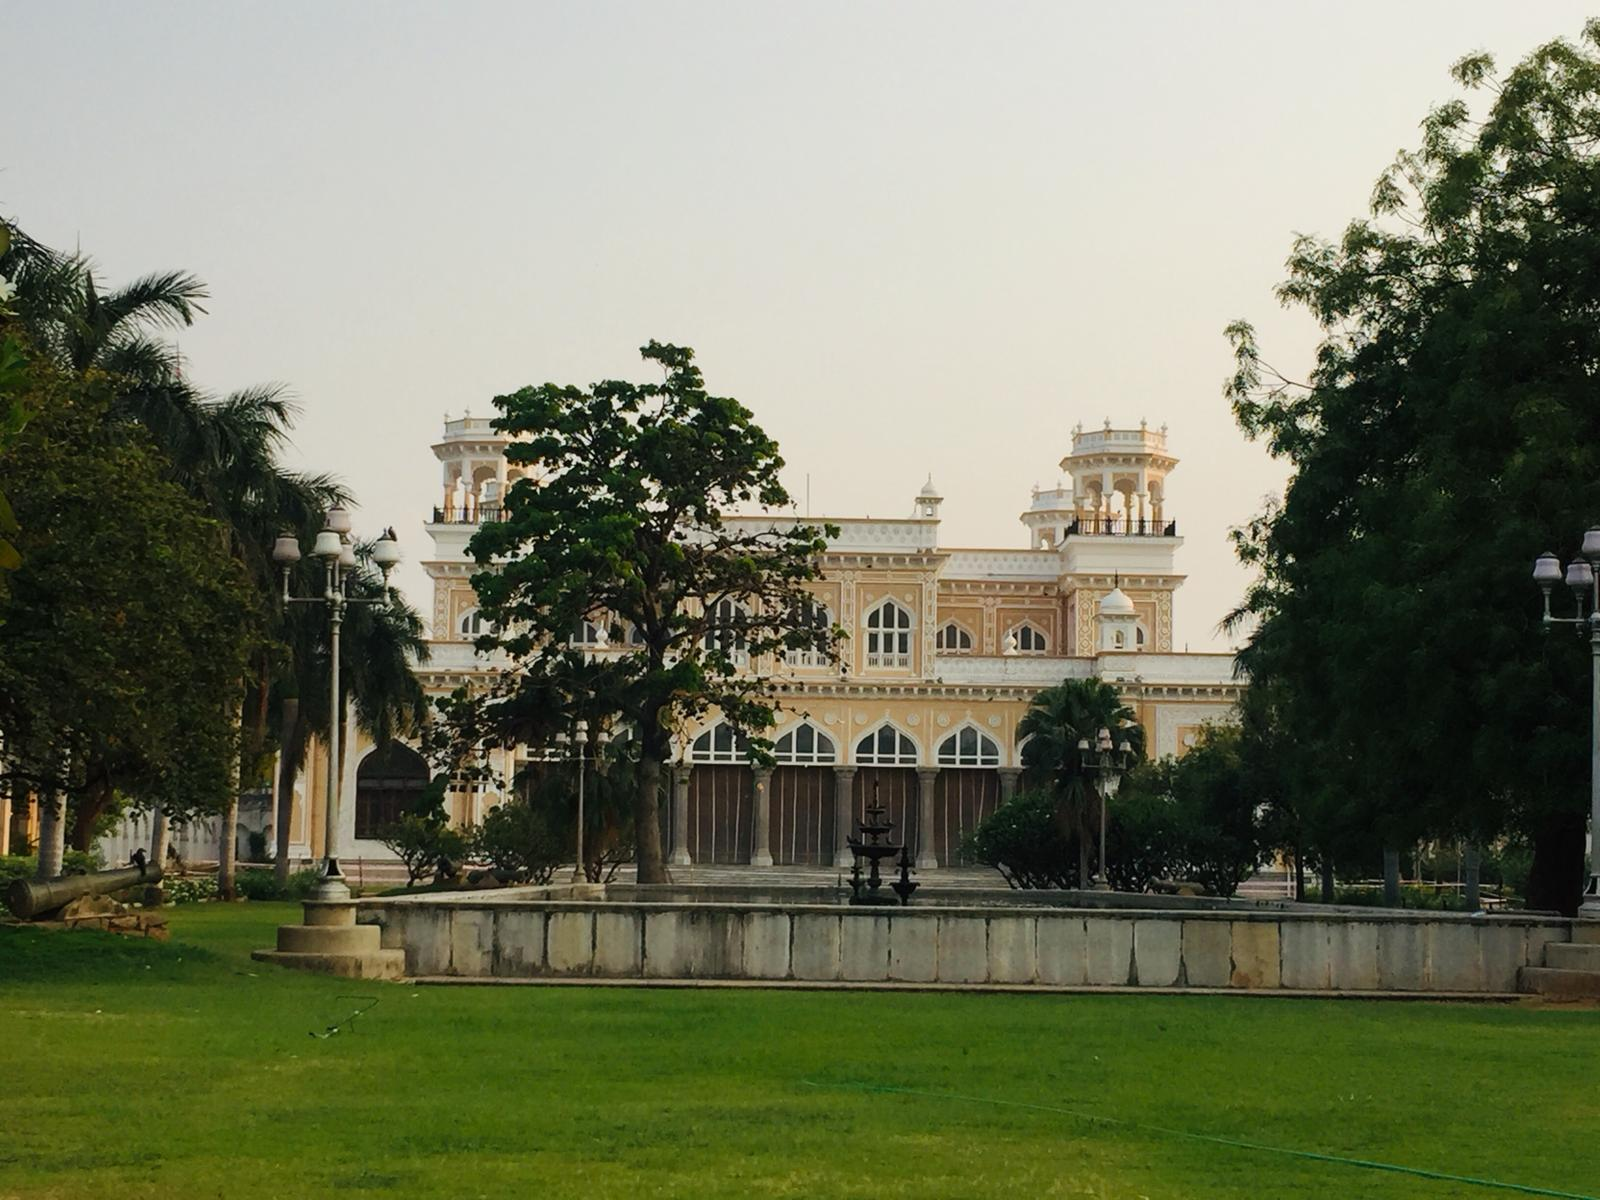plants: (1245, 1, 1584, 857), (1, 219, 278, 892), (480, 371, 787, 879), (323, 606, 427, 831), (1015, 688, 1128, 884), (1134, 753, 1275, 887)
